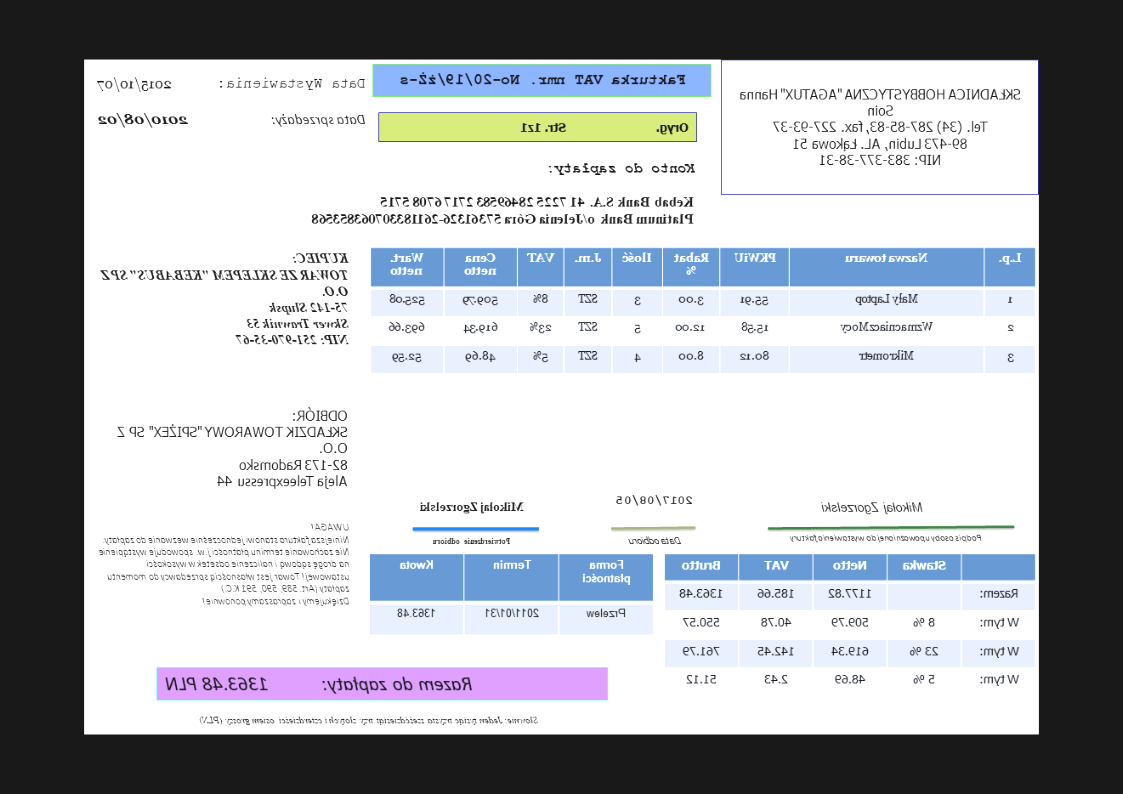Table: (369, 247, 1037, 376), (662, 553, 1038, 696), (368, 552, 655, 638)
TextBox: (94, 248, 352, 349), (737, 85, 1023, 171), (98, 521, 352, 609), (114, 404, 350, 493), (309, 193, 697, 227), (163, 672, 475, 696), (196, 712, 541, 728), (397, 70, 689, 88), (519, 118, 691, 138), (545, 159, 699, 178), (218, 75, 367, 94), (786, 531, 984, 543), (417, 498, 528, 516), (96, 111, 190, 131), (817, 499, 925, 516), (270, 111, 368, 129), (615, 490, 696, 510), (95, 75, 174, 94), (431, 535, 514, 547), (626, 534, 683, 547)
